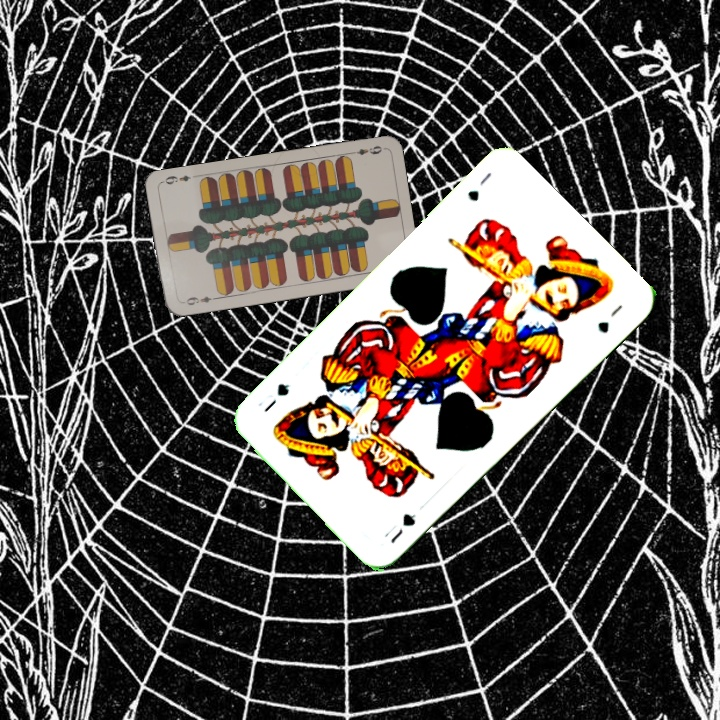E9: (178, 292, 218, 308), (346, 142, 385, 158)
GU: (386, 509, 419, 546), (463, 167, 495, 204)
